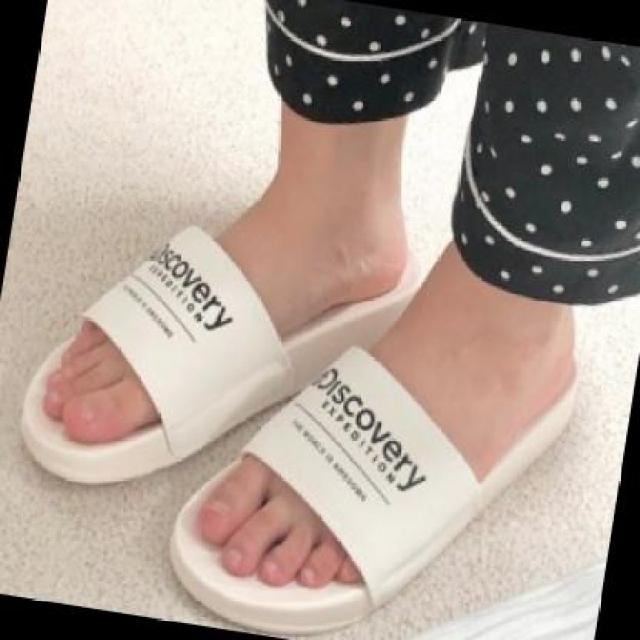Sandals: (178, 142, 596, 638), (4, 152, 284, 499)
